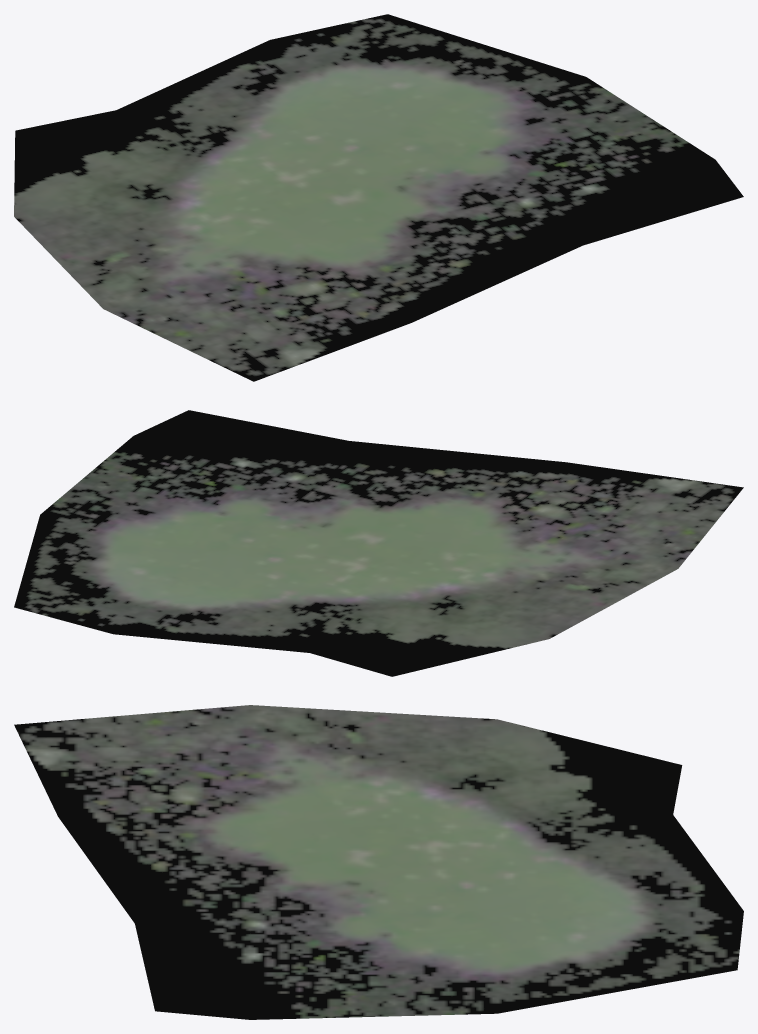
File: sewer_puddle_2.FBX
The picture shows the model from 3 angles, top to bottom: view 1: azimuth 30°, elevation 25°; view 2: azimuth 150°, elevation 25°; view 3: azimuth 270°, elevation 25°; orthographic projection. The views are drawn at different scales.
Visible parts, largest first — view 1: sewer_puddle_2; view 2: sewer_puddle_2; view 3: sewer_puddle_2.
Part boxes in pixels (x1=…): sewer_puddle_2: x1=14, y1=14, x2=743, y2=381; sewer_puddle_2: x1=14, y1=410, x2=743, y2=676; sewer_puddle_2: x1=14, y1=705, x2=743, y2=1019.
Size of the model in its own units: 63.31 by 1.44e-05 by 62.01.
